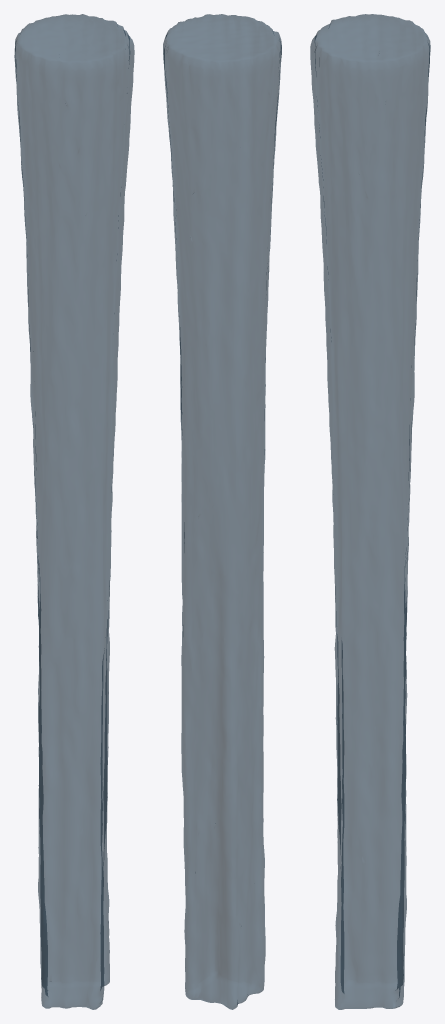
File: water_8.dae
3 views of the same model, side by side, from view 1: azimuth 90°, elevation 25°; view 2: azimuth 150°, elevation 25°; view 3: azimuth 270°, elevation 25° (orthographic).
Parts seen in each view (by area): view 1: Water_stream_001; view 2: Water_stream_001; view 3: Water_stream_001.
Part boxes in pixels (x1,y1,x2,y2): Water_stream_001: (14,14,134,1009); Water_stream_001: (163,14,281,1009); Water_stream_001: (310,14,430,1009).
Bounding box in the file's own units: 0.0638 × 0.0642 × 0.5661.
